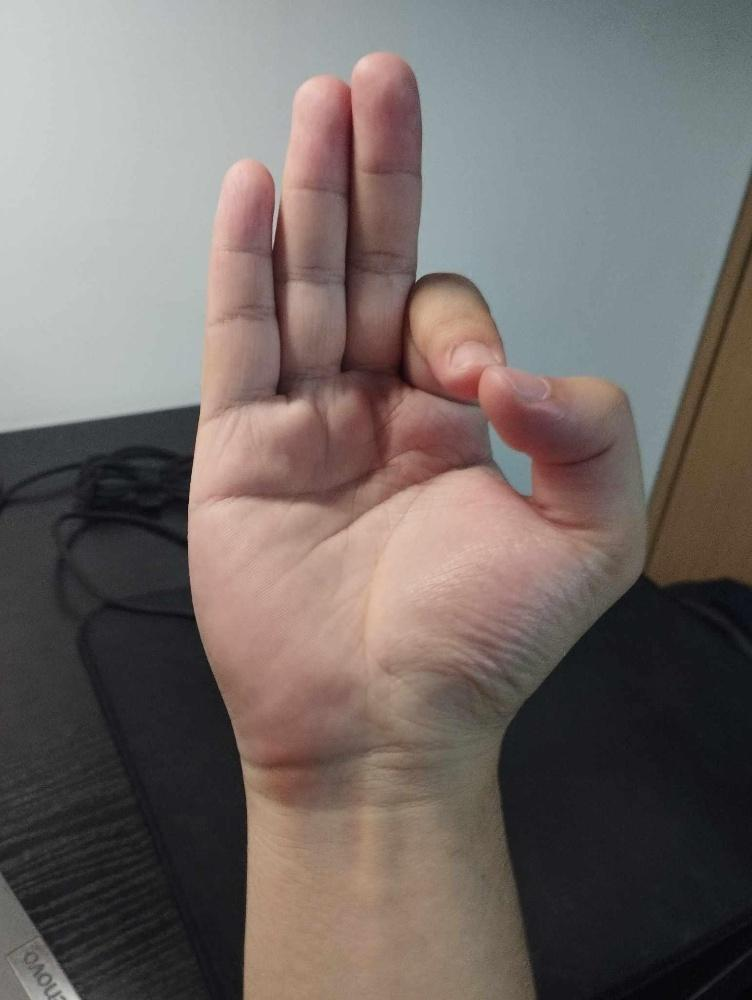f: (181, 44, 655, 779)
